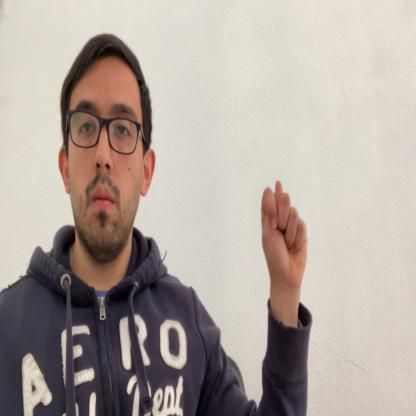T: (262, 178, 307, 294)
